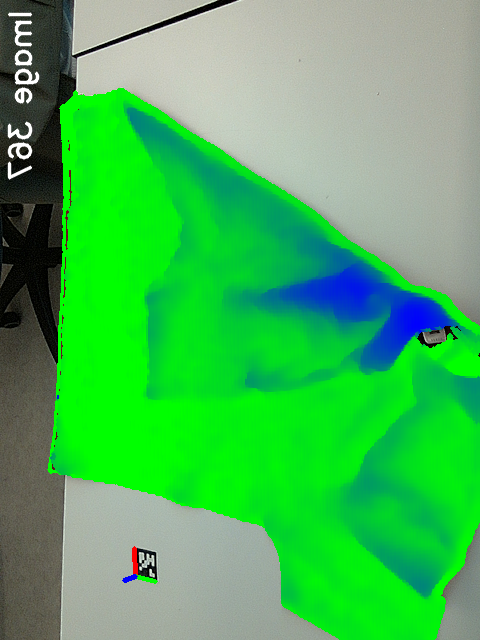V: (320, 472, 381, 526), (132, 373, 179, 410)
